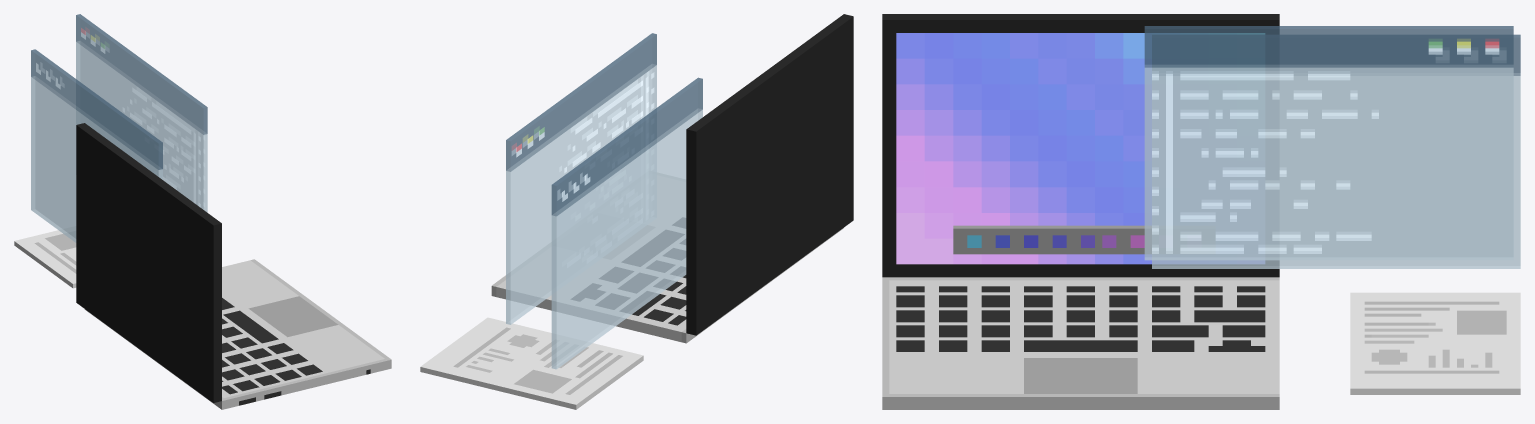
3 views of the same model, side by side, from view 1: azimuth 30°, elevation 25°; view 2: azimuth 150°, elevation 25°; view 3: azimuth 270°, elevation 25° (orthographic). The views are drawn at different scales.
Parts seen in each view (by area): view 1: laptop_0, laptop.001_1; view 2: laptop_0, laptop.001_1; view 3: laptop_0, laptop.001_1, laptop.002_2.
Part boxes in pixels (x1,y1,x2,y2): laptop_0: (14, 123, 391, 409); laptop.001_1: (31, 14, 207, 242); laptop_0: (420, 14, 853, 409); laptop.001_1: (506, 33, 702, 369); laptop_0: (882, 14, 1520, 409); laptop.001_1: (1144, 26, 1520, 268); laptop.002_2: (896, 33, 1264, 264).
Size of the model in its own units: 4.2 by 4.9 by 9.
Materials: 3 (3 with a texture image).
